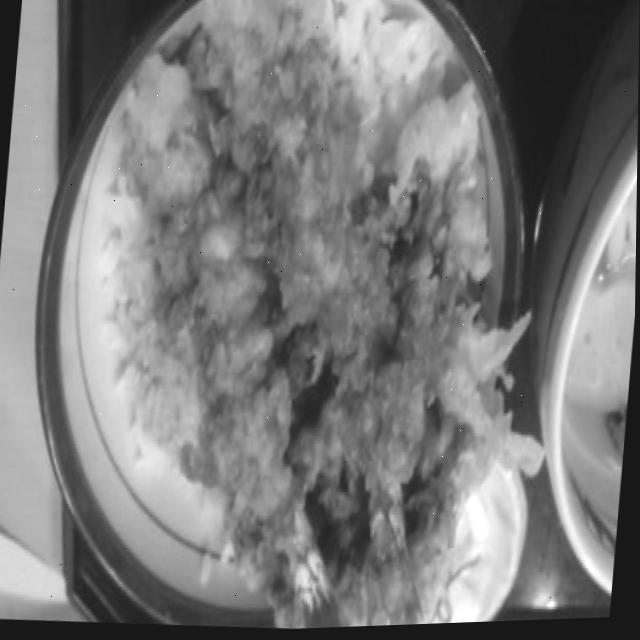熟制海鲜: (32, 0, 552, 639)
